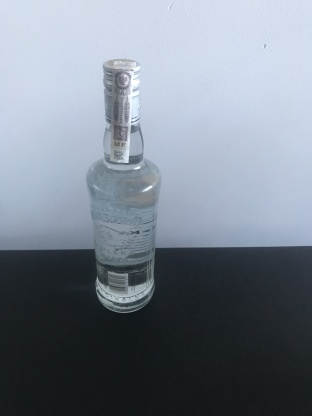nakretka: (100, 57, 143, 126), (99, 41, 130, 121)
